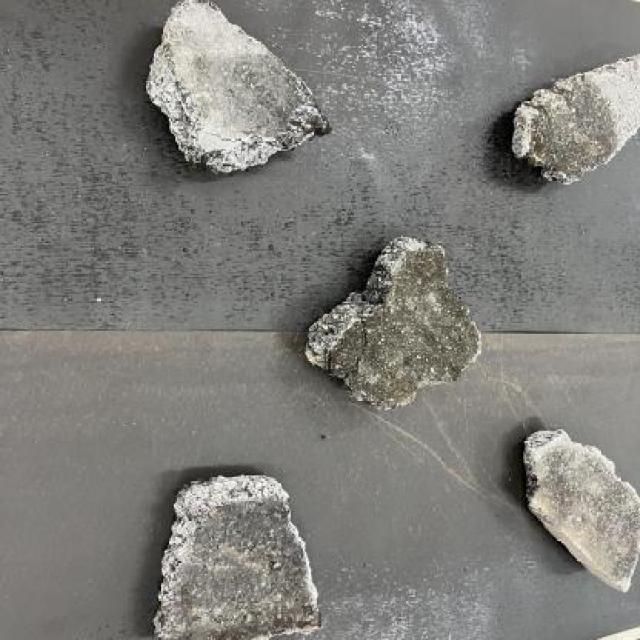Road Debris: (306, 234, 482, 410), (153, 496, 324, 638), (529, 438, 640, 591), (192, 48, 312, 148), (515, 74, 617, 190)
